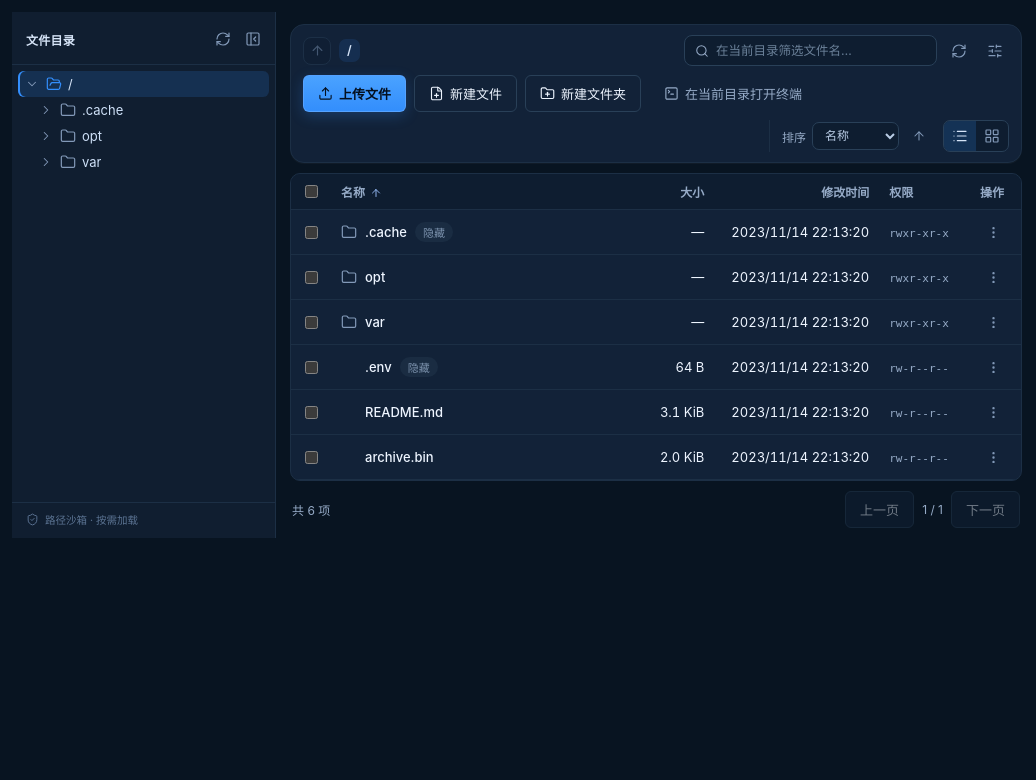
FileWorkspace › collapses the tree into a rail and reopens it without refetching
Click the button named "收起目录树" at (253, 39), box [239,25,267,53]
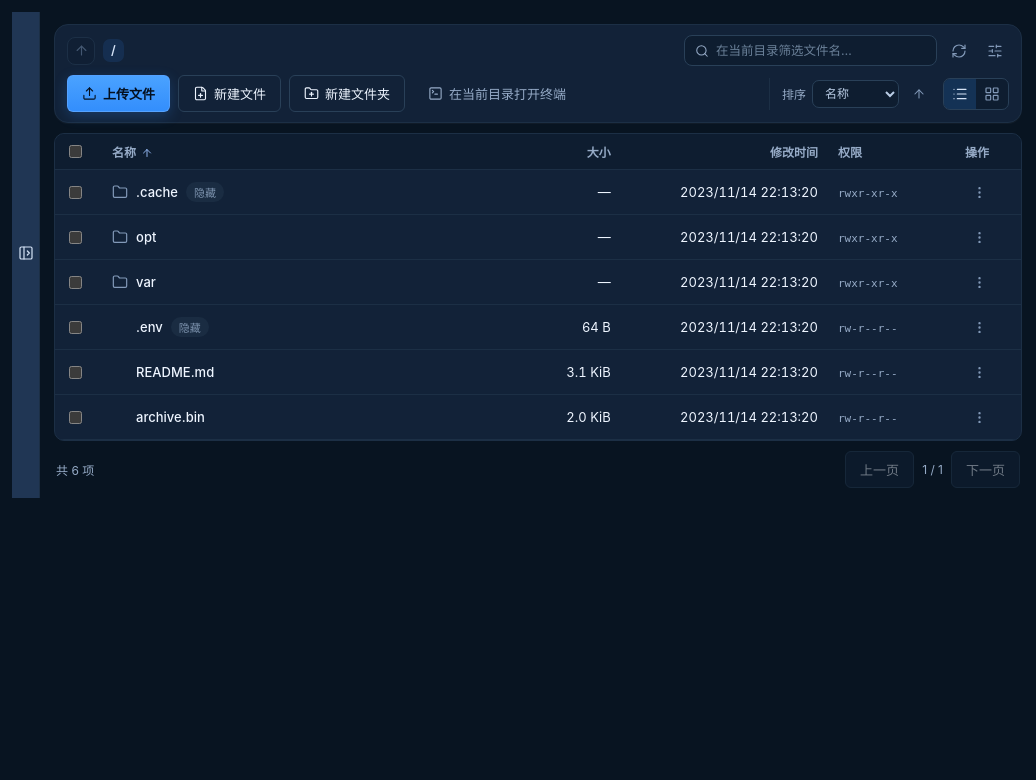
Expected: the element with class "ed-files-workspace" has class "tree-collapsed"
Click the button with class "ed-files-tree-rail" at (26, 255), box [12,12,40,498]
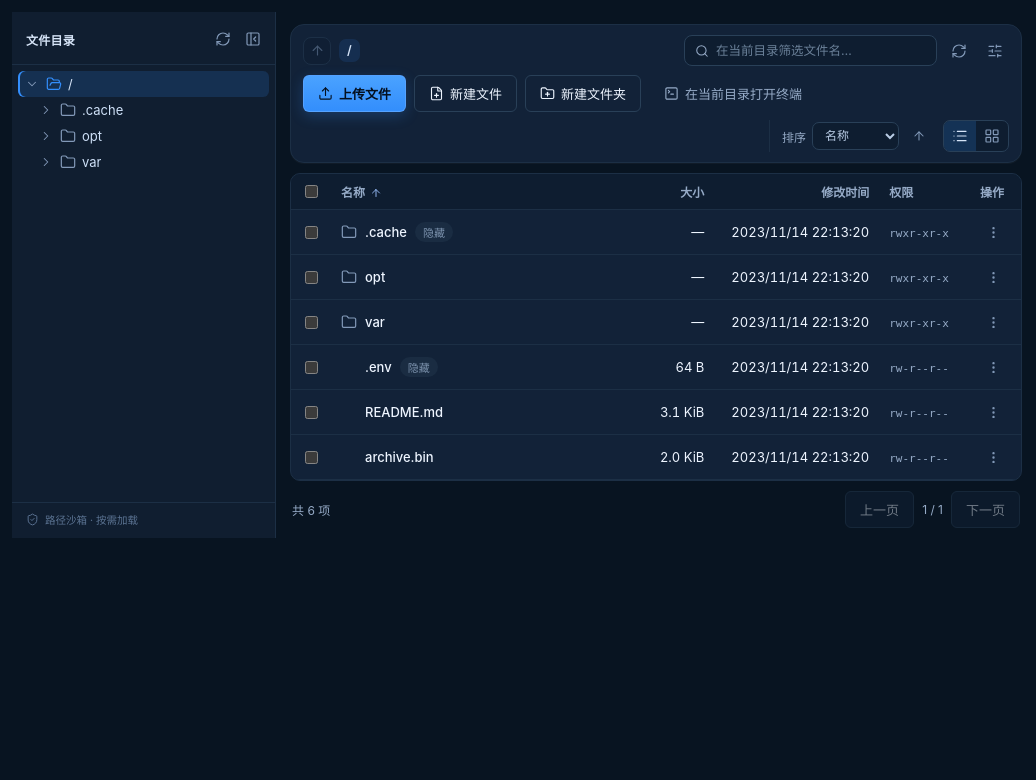
Expected: the text with class "ed-tree-label" reads "/", [68,76,73,92]
